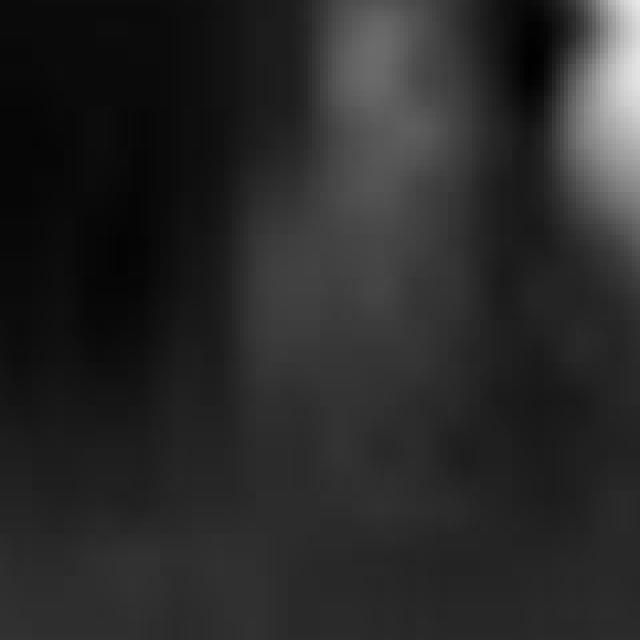person: (541, 1, 640, 353)
